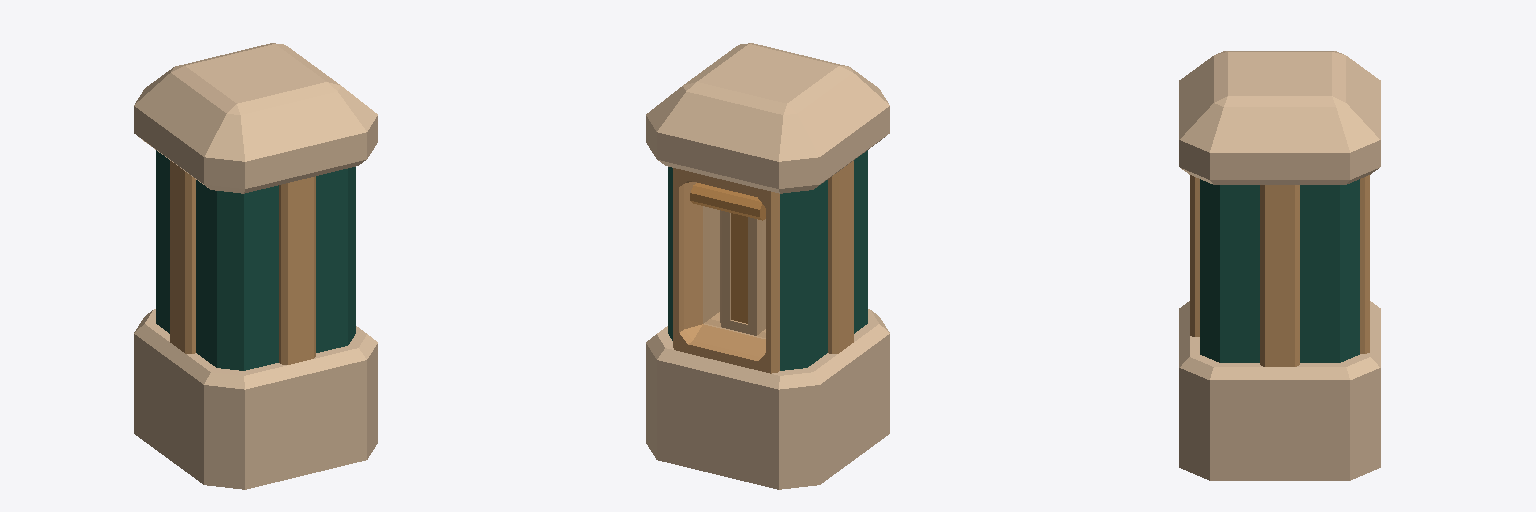
File: Puzzle_Control_Rising_Switch.obj
3 renders of one model, left to right at view 1: azimuth 30°, elevation 25°; view 2: azimuth 150°, elevation 25°; view 3: azimuth 270°, elevation 25°, orthographic.
Visible parts, largest first — view 1: object3, object1; view 2: object3, object1, object2; view 3: object3, object1.
Part boxes in pixels (x1,y1,x2,y2): object3: (134, 43, 377, 489); object1: (156, 150, 355, 370); object3: (646, 43, 889, 489); object1: (668, 150, 867, 370); object2: (690, 183, 765, 220); object3: (1179, 51, 1380, 480); object1: (1200, 179, 1359, 362).
Bounding box in the file's own units: 0.5 × 1 × 0.5.